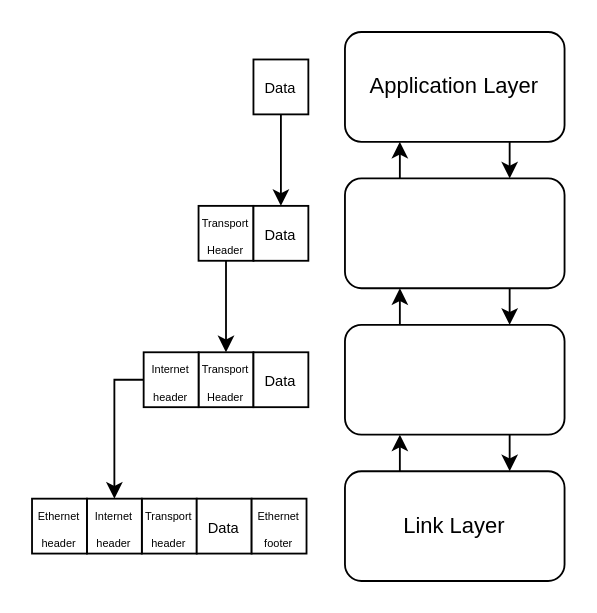
The diagram is 597 pixels wide and 613 high, and some of its shapes have lost their labels. The centre of each missing label's shape, as x and y in pixels:
"Internet Layer" goes at [454,379].
"Transport Layer" goes at [454,232].
